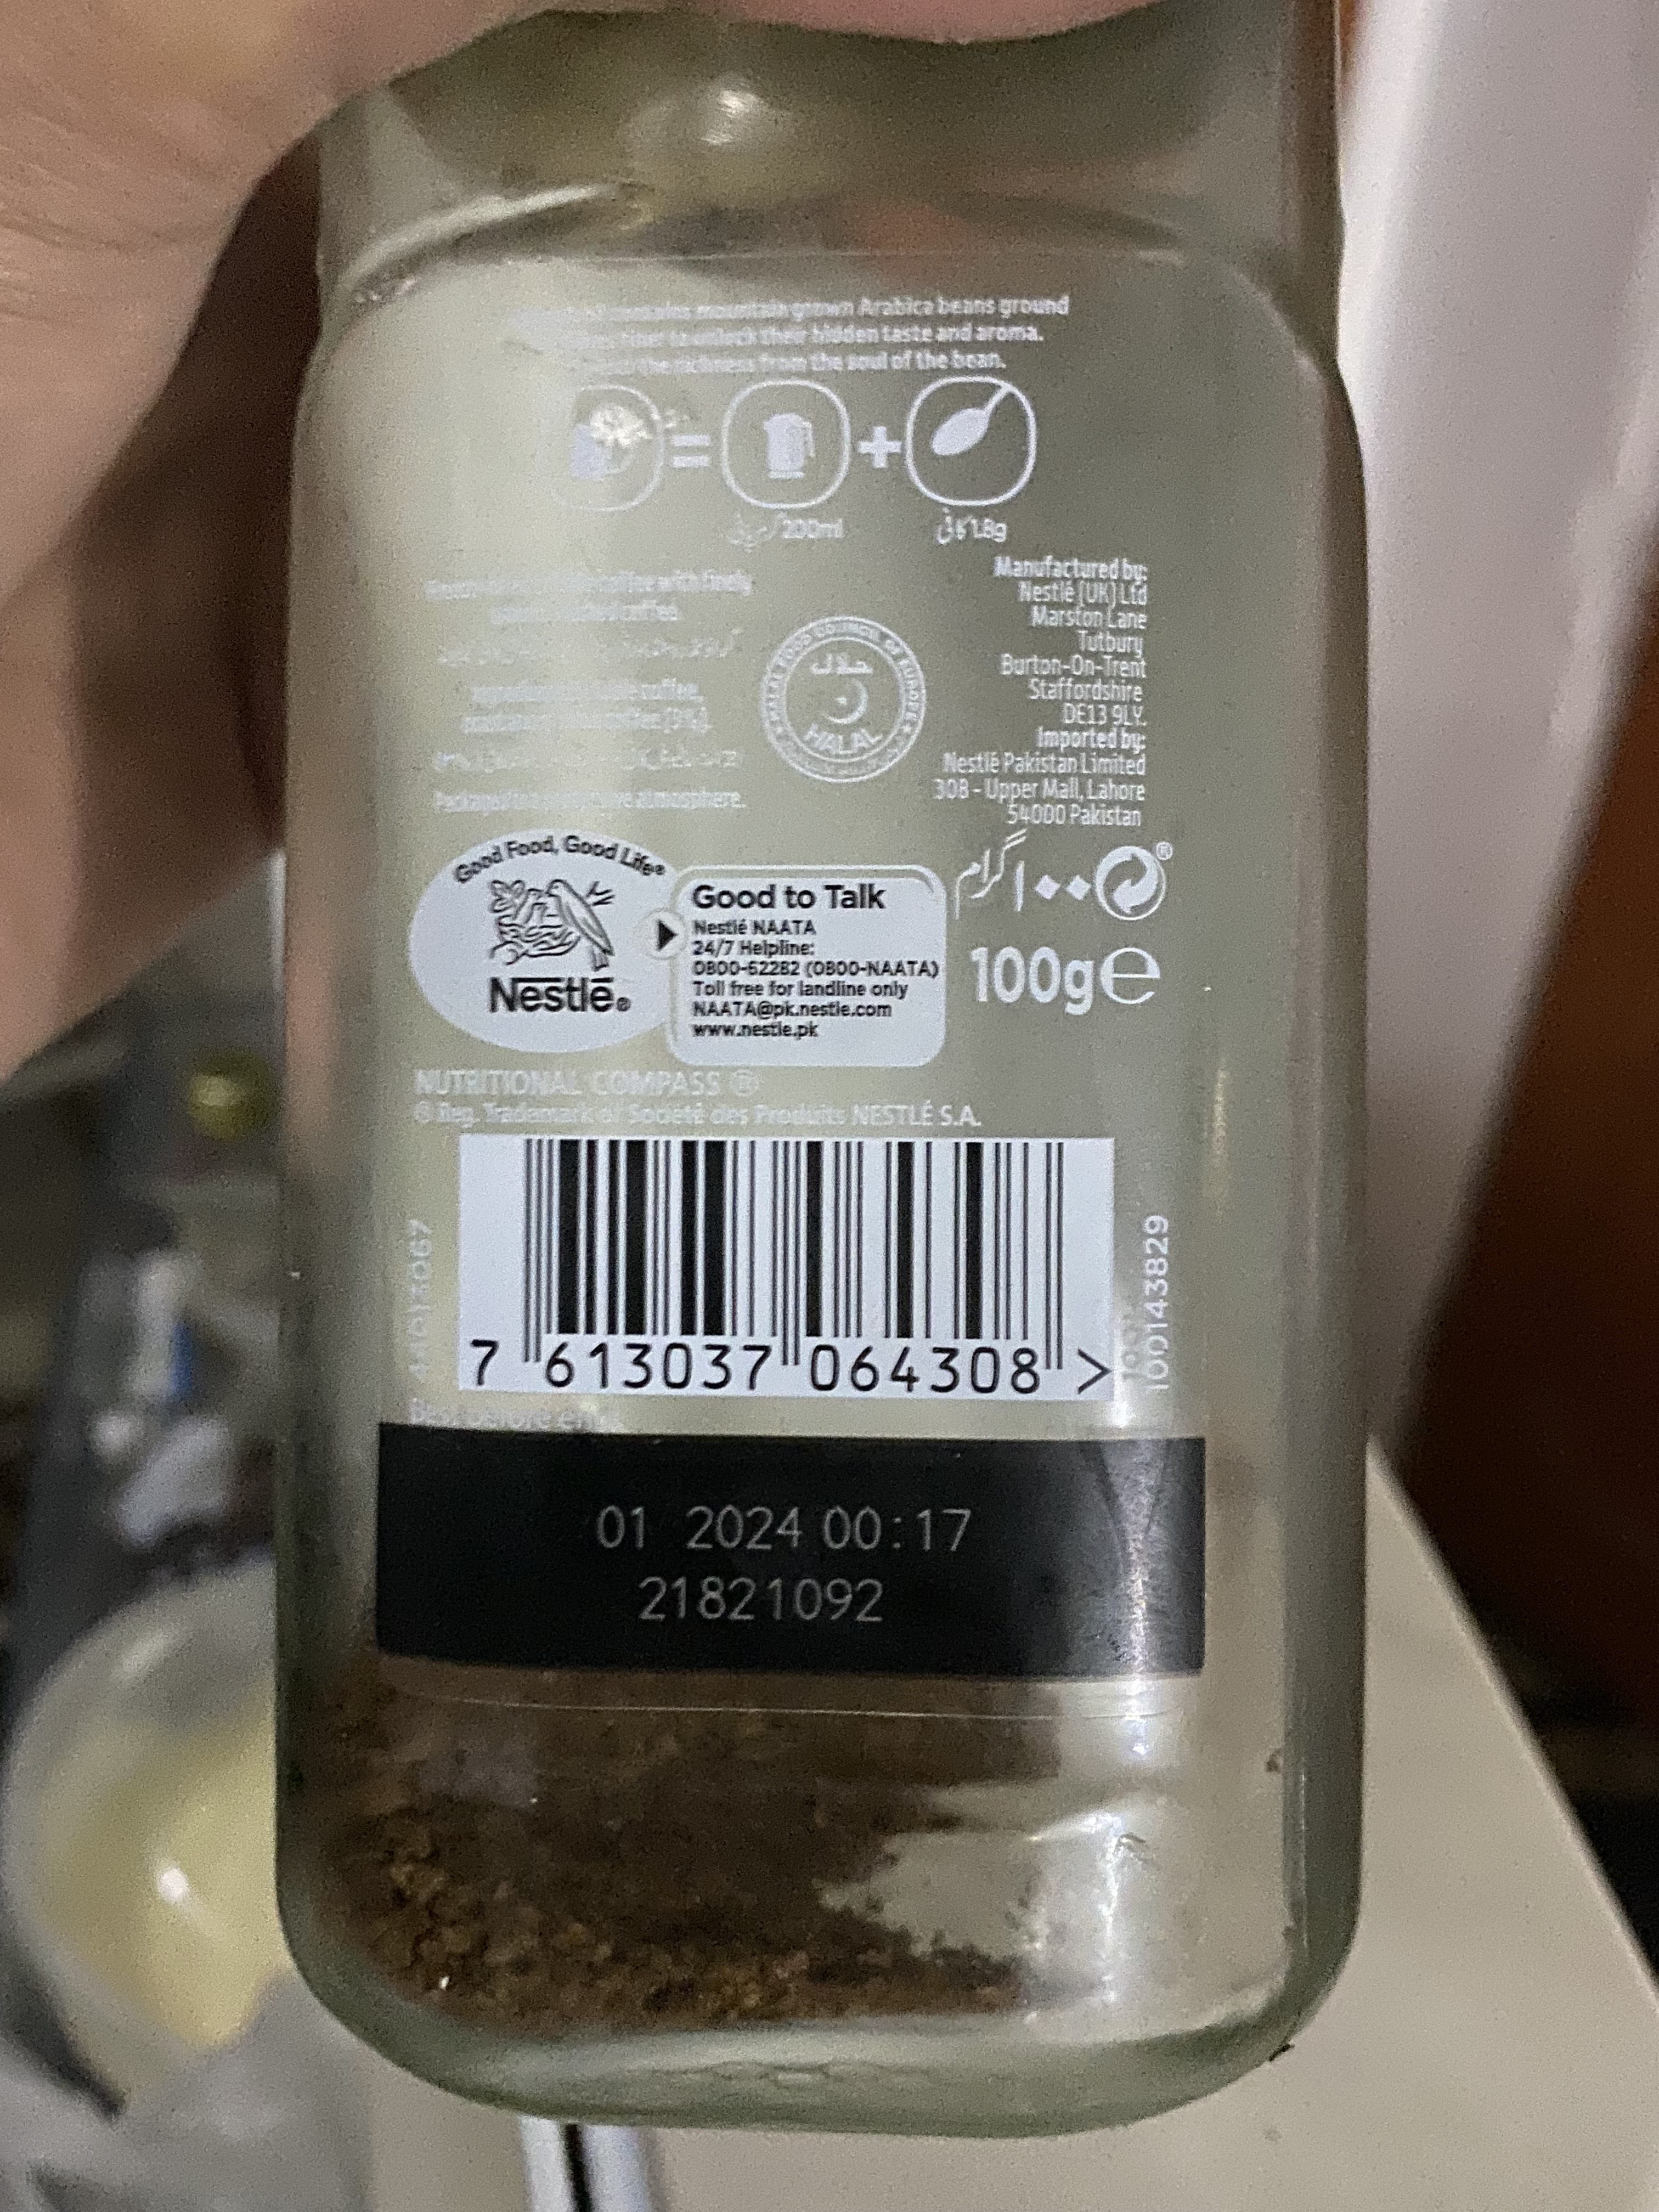table: (354, 536, 1195, 852)
